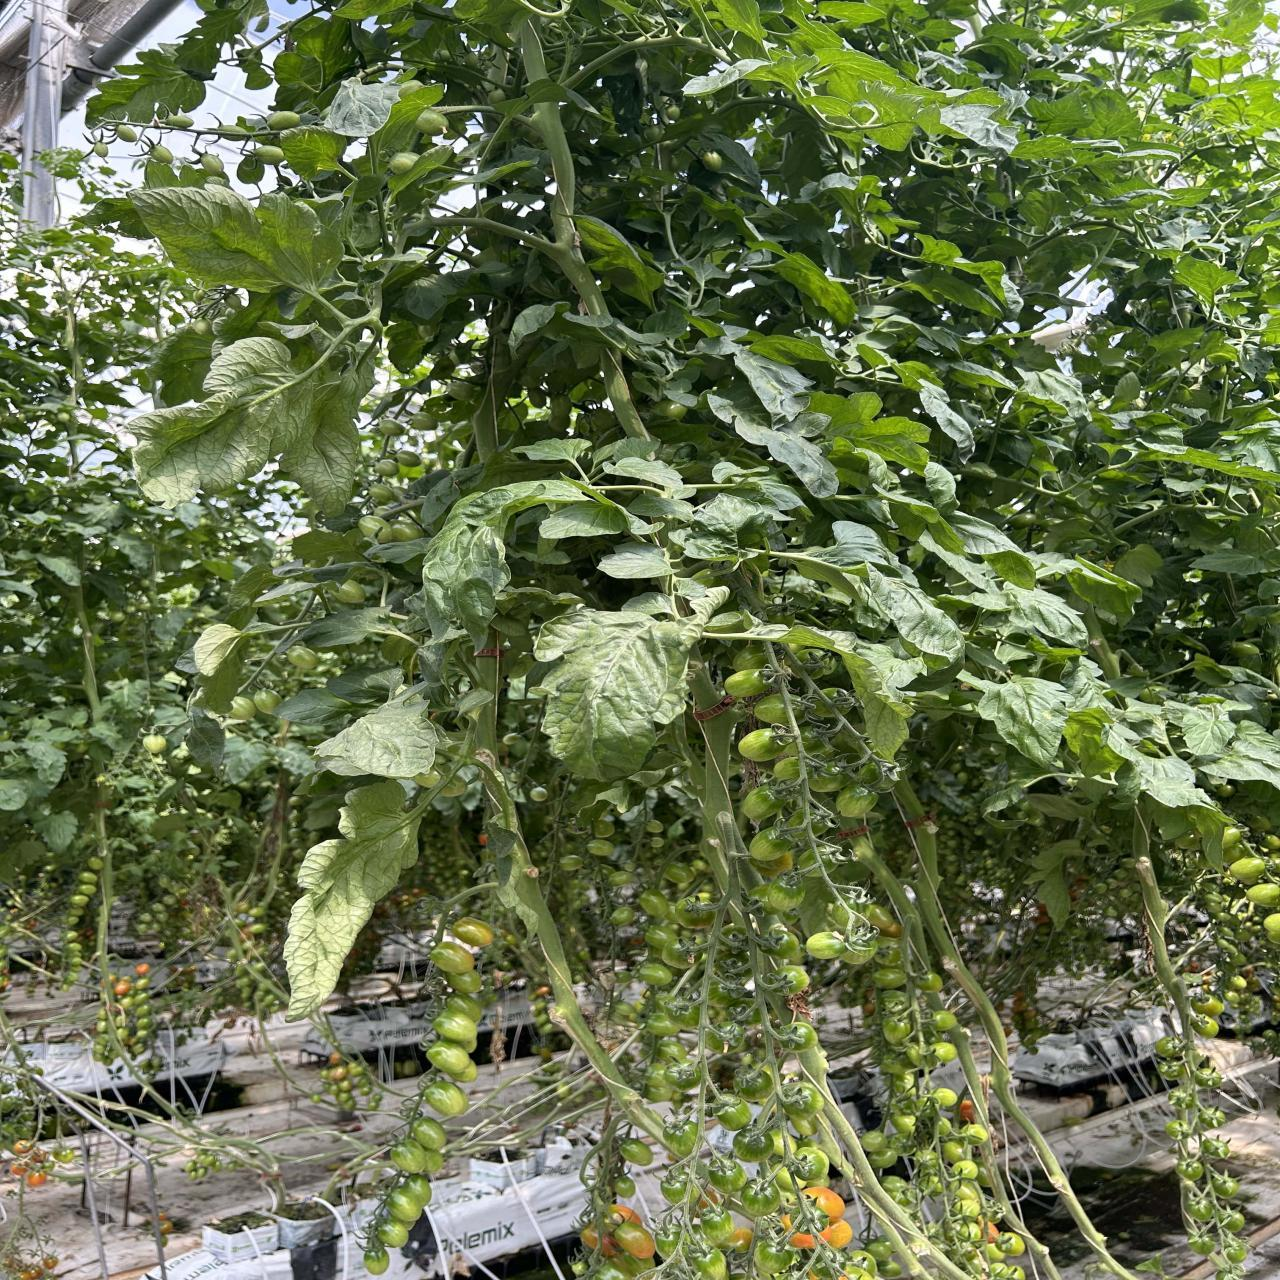Hoja rugoso: (129, 336, 369, 510), (531, 598, 720, 781), (284, 781, 423, 1017), (422, 478, 605, 644), (130, 185, 342, 292), (845, 563, 964, 666), (829, 633, 925, 760), (315, 699, 438, 779), (971, 676, 1074, 763), (1135, 751, 1210, 808)
Pedunculo: (467, 645, 621, 1092), (527, 100, 613, 320), (599, 345, 652, 443), (519, 20, 549, 81), (692, 669, 719, 709)
Tomate: (377, 517, 423, 542), (778, 965, 810, 993), (1230, 857, 1265, 881), (286, 645, 319, 670), (1246, 883, 1280, 907), (200, 152, 227, 183), (416, 109, 448, 135), (1197, 1056, 1223, 1088), (335, 580, 366, 605), (388, 151, 420, 173), (229, 695, 256, 721), (1192, 995, 1224, 1016), (1192, 1013, 1219, 1037), (253, 690, 281, 714), (370, 484, 401, 505), (267, 111, 301, 130), (1177, 1159, 1203, 1182), (254, 145, 285, 164), (359, 516, 386, 537), (410, 411, 438, 431), (1262, 912, 1280, 944), (216, 125, 257, 137), (149, 144, 173, 163), (701, 150, 722, 171), (164, 115, 193, 129), (375, 459, 400, 476), (379, 420, 403, 436), (1187, 1239, 1213, 1254), (116, 125, 138, 142), (399, 451, 421, 467), (93, 143, 108, 157)
Tomate Rugoso: (694, 713, 744, 898), (386, 1175, 430, 1224), (427, 1041, 476, 1082), (433, 1008, 478, 1050), (787, 1142, 830, 1184), (422, 1078, 469, 1117), (660, 1164, 702, 1206), (706, 1153, 748, 1194), (733, 1124, 775, 1163), (781, 1082, 822, 1121), (761, 877, 804, 913), (710, 1094, 751, 1131), (614, 1223, 656, 1259), (699, 1207, 735, 1250), (742, 785, 785, 821), (734, 1064, 772, 1103), (749, 828, 791, 863), (738, 729, 783, 762), (755, 1240, 796, 1275), (430, 940, 474, 973), (665, 1118, 700, 1158), (803, 1186, 845, 1219), (860, 1130, 896, 1169), (724, 669, 768, 700), (742, 1183, 781, 1217), (406, 1141, 444, 1173), (451, 918, 493, 947), (410, 1118, 447, 1152), (392, 1139, 425, 1173), (376, 1219, 413, 1248), (805, 931, 843, 959), (695, 1248, 728, 1280), (754, 694, 788, 724), (445, 994, 482, 1022), (666, 1061, 699, 1091), (654, 1224, 682, 1259), (621, 1139, 654, 1167), (638, 961, 674, 986), (646, 1013, 681, 1037), (881, 1016, 911, 1046), (640, 890, 669, 918), (449, 969, 482, 994), (646, 925, 678, 948), (665, 863, 695, 886), (873, 967, 905, 989), (792, 1021, 817, 1049), (996, 1232, 1026, 1255), (365, 1247, 389, 1274), (774, 756, 799, 781), (440, 775, 467, 797), (933, 1009, 959, 1032), (952, 1159, 979, 1179), (414, 769, 442, 788), (915, 973, 942, 992), (933, 1041, 956, 1062), (587, 839, 614, 857), (611, 906, 634, 926), (559, 855, 583, 871), (530, 787, 547, 802)
